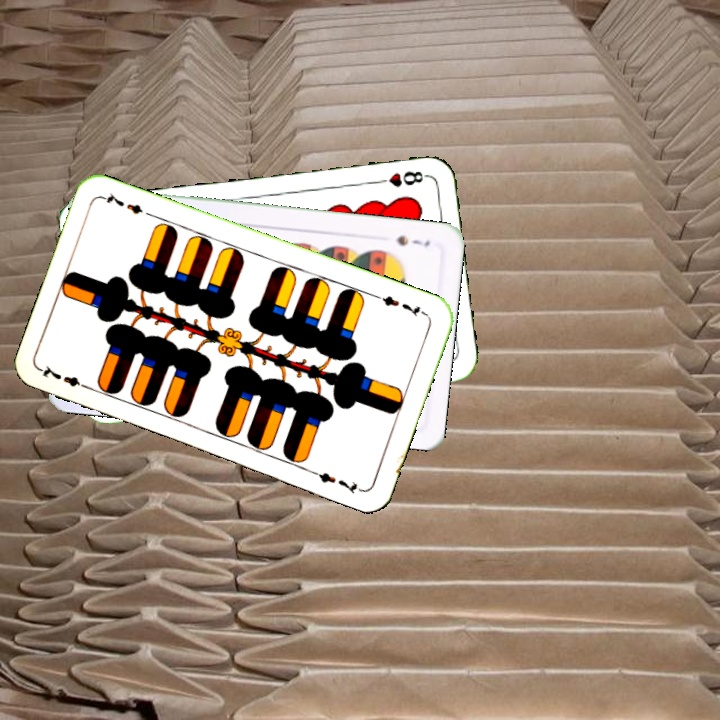E7: (37, 362, 94, 393), (372, 291, 429, 320)
H8: (371, 167, 430, 190)
S7: (392, 231, 432, 249)
